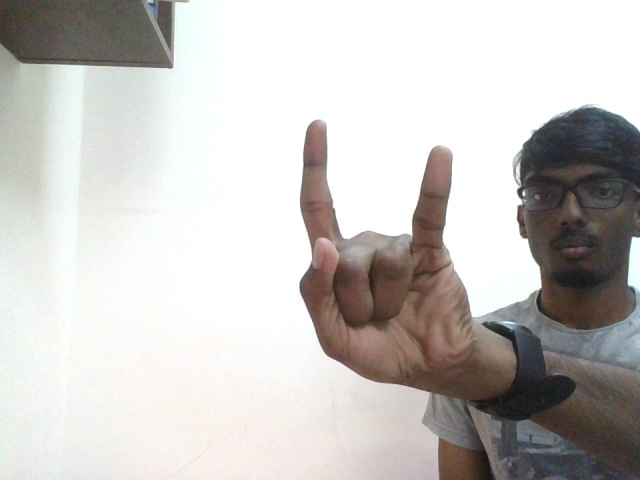I Love You: (299, 120, 454, 380)
